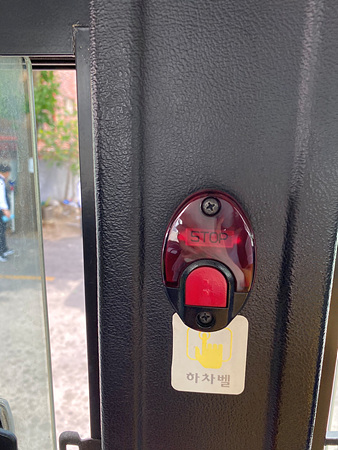bell: (161, 190, 257, 331)
